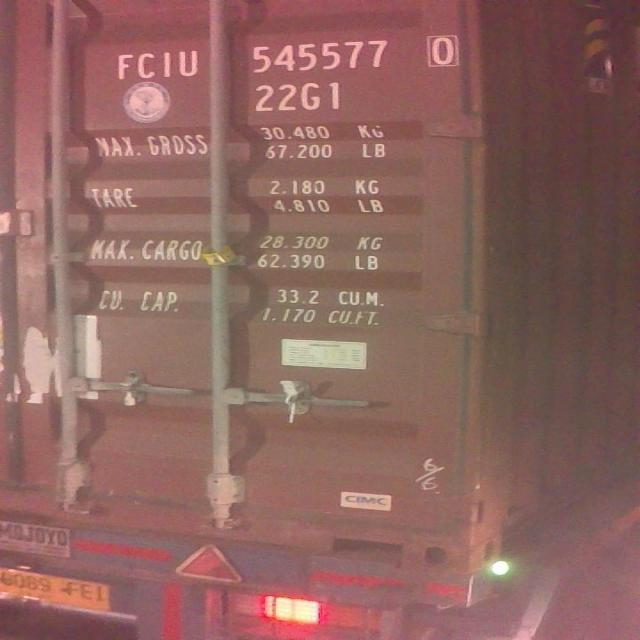seal: (272, 377, 310, 424), (121, 379, 137, 411)
